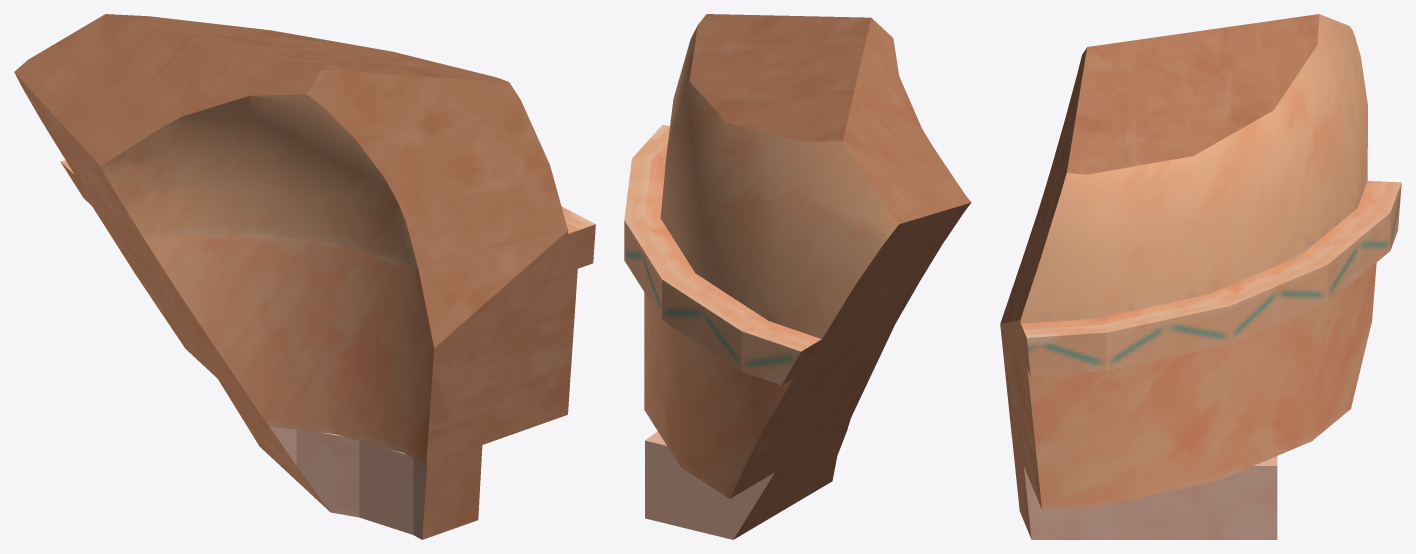
Rendered from dome_s08.fbx.
The picture shows the model from 3 angles, left to right: view 1: azimuth 30°, elevation 25°; view 2: azimuth 150°, elevation 25°; view 3: azimuth 270°, elevation 25°; orthographic projection. The views are drawn at different scales.
Parts seen in each view (by area): view 1: dome_s08; view 2: dome_s08; view 3: dome_s08.
Boxes of the visible parts, x1,y1,x2,y2 form: dome_s08: (14, 14, 595, 539); dome_s08: (624, 14, 971, 539); dome_s08: (1000, 14, 1401, 539).
Size of the model in its own units: 5.82 by 6.24 by 5.22.
